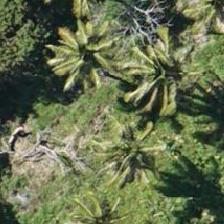coconut_tree: (41, 13, 131, 103), (119, 29, 209, 119)
